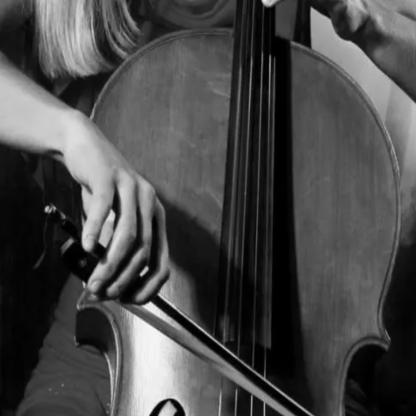good: (61, 151, 183, 321)
